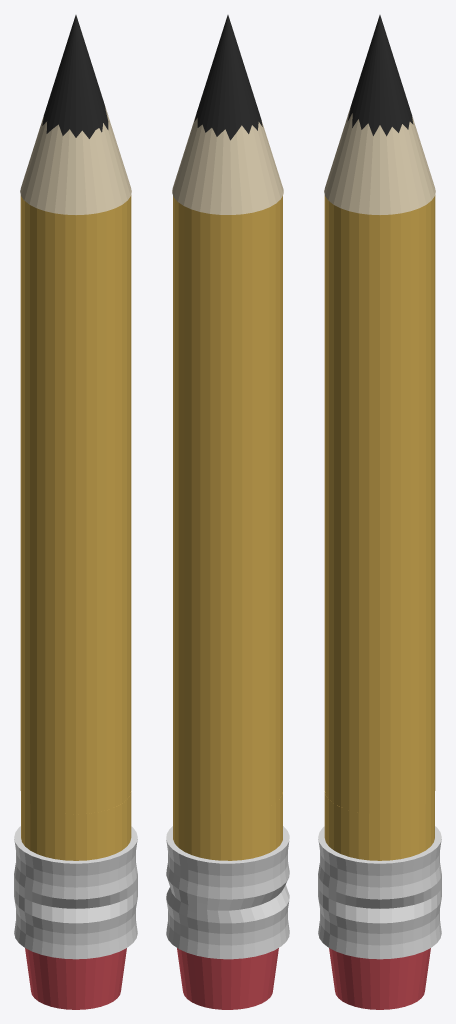
Rendered from pencil.fbx.
3 renders of one model, left to right at view 1: azimuth 90°, elevation 25°; view 2: azimuth 150°, elevation 25°; view 3: azimuth 270°, elevation 25°, orthographic.
Parts seen in each view (by area): view 1: Cylinder, Cylinder.001, Cone; view 2: Cylinder, Cylinder.001, Cone; view 3: Cylinder, Cylinder.001, Cone.
Part boxes in pixels (x1,y1,x2,y2): Cylinder: [20, 195, 131, 1009]; Cylinder.001: [14, 826, 137, 959]; Cone: [20, 15, 131, 214]; Cylinder: [173, 196, 282, 1009]; Cylinder.001: [166, 826, 289, 959]; Cone: [172, 15, 283, 214]; Cylinder: [324, 195, 435, 1009]; Cylinder.001: [318, 826, 441, 959]; Cone: [324, 15, 435, 214].
Bounding box in the file's own units: 221 × 1929 × 221.
